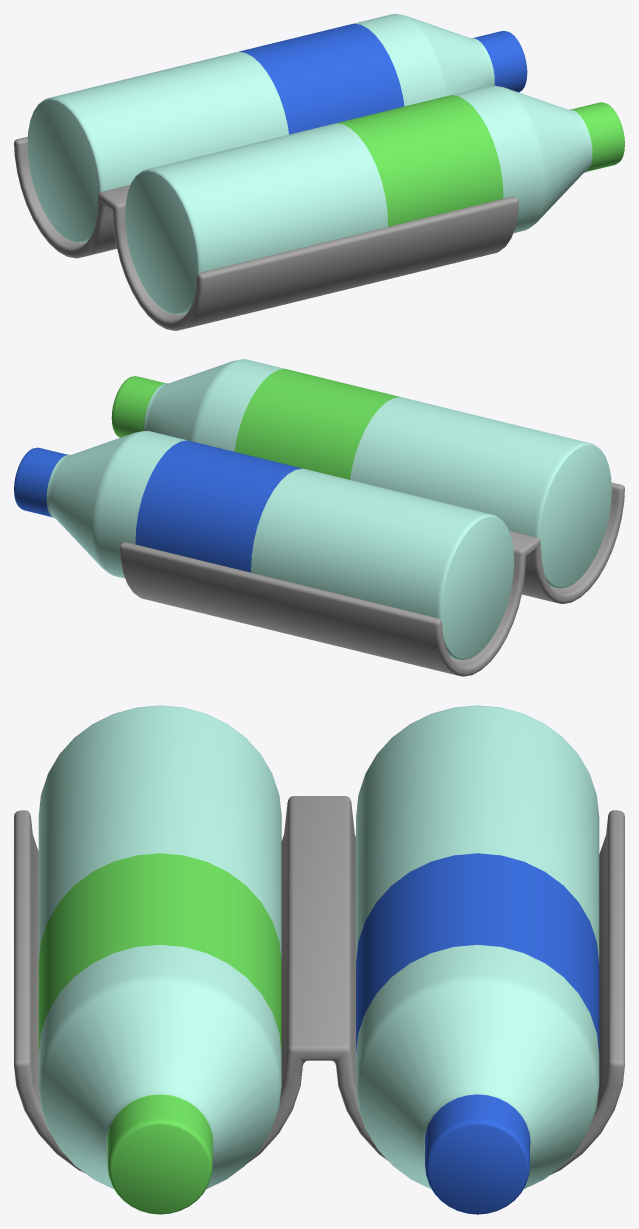
Rendered from butelki.fbx.
The picture shows the model from 3 angles, top to bottom: view 1: azimuth 30°, elevation 25°; view 2: azimuth 150°, elevation 25°; view 3: azimuth 270°, elevation 25°; orthographic projection. The views are drawn at different scales.
Visible parts, largest first — view 1: Cylinder.011, Cylinder.012, Cylinder.010; view 2: Cylinder.012, Cylinder.011, Cylinder.010; view 3: Cylinder.011, Cylinder.012, Cylinder.010.
Part boxes in pixels (x1=…): Cylinder.011: x1=125, y1=85, x2=624, y2=314; Cylinder.012: x1=27, y1=14, x2=527, y2=243; Cylinder.010: x1=14, y1=136, x2=518, y2=330; Cylinder.012: x1=14, y1=431, x2=513, y2=660; Cylinder.011: x1=111, y1=359, x2=611, y2=588; Cylinder.010: x1=119, y1=482, x2=624, y2=676; Cylinder.011: x1=38, y1=705, x2=281, y2=1214; Cylinder.012: x1=356, y1=705, x2=599, y2=1214; Cylinder.010: x1=14, y1=796, x2=624, y2=1174.
Bounding box in the file's own units: 450 × 141 × 323.
